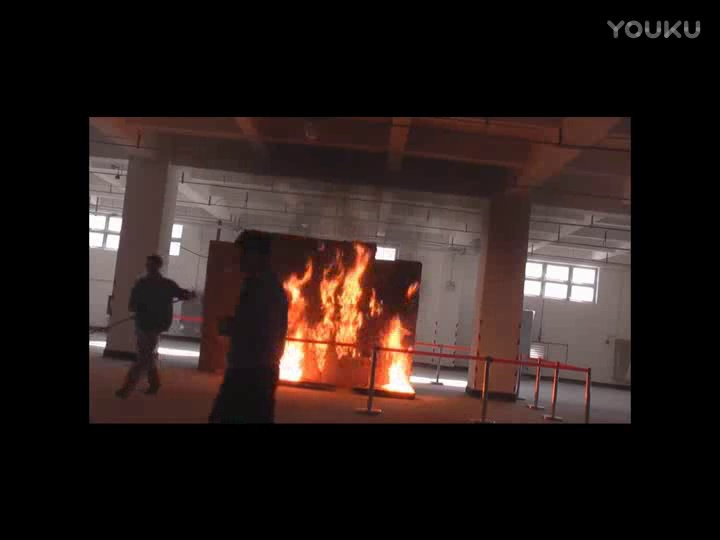fire: (272, 242, 418, 393)
